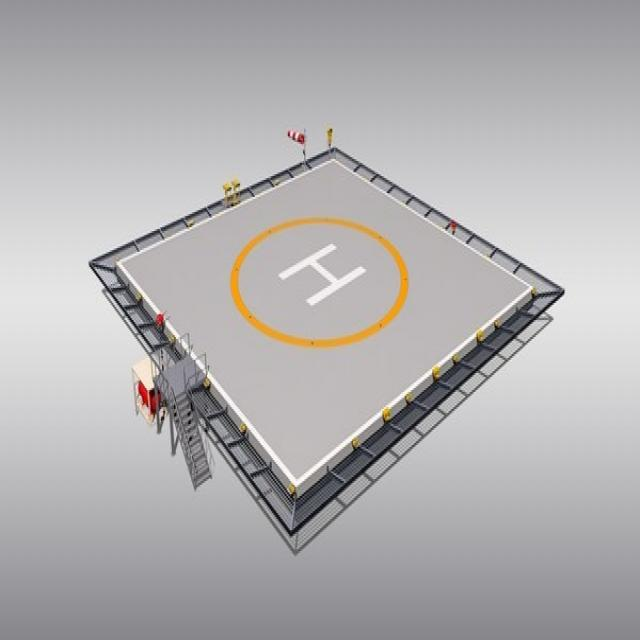helipad: (227, 210, 409, 348)
